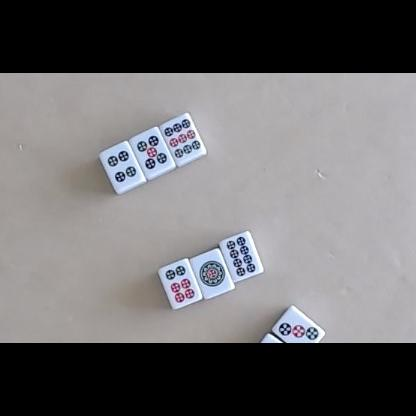1p: (199, 260, 226, 287)
3p: (278, 321, 319, 341)
4p: (106, 150, 138, 183)
5p: (136, 135, 168, 170)
6p: (165, 265, 196, 304)
8p: (226, 236, 256, 277)
9p: (164, 118, 201, 159)
